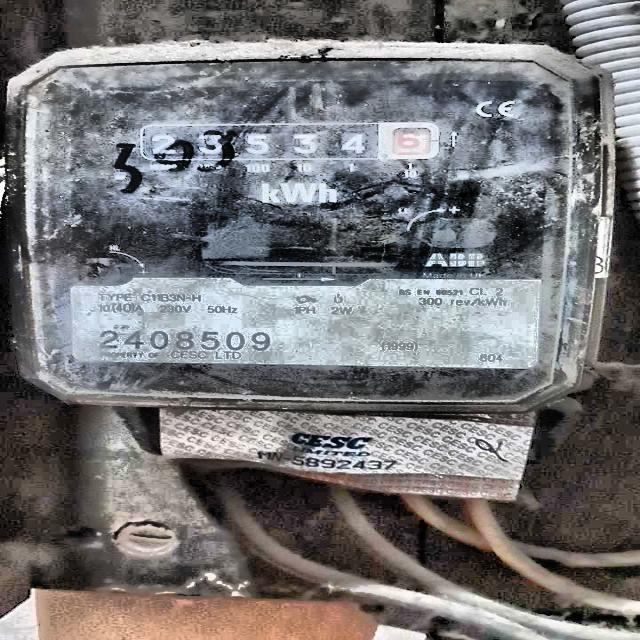Analog: (1, 44, 592, 410)
Reading: (143, 125, 438, 156)
Serial No.: (96, 330, 273, 350)
